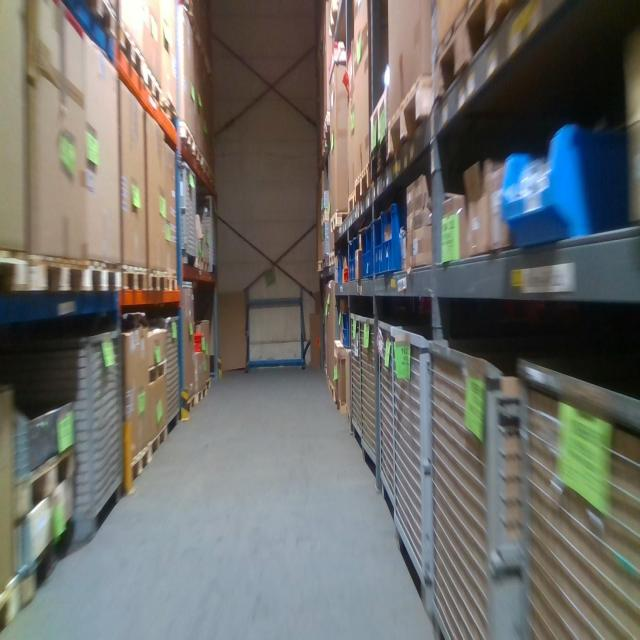pallet: (11, 439, 75, 536), (16, 520, 71, 616), (387, 70, 432, 170), (23, 258, 86, 315), (434, 48, 486, 99), (119, 22, 146, 85), (83, 2, 118, 45), (83, 266, 122, 299), (127, 443, 150, 498), (370, 131, 390, 189), (1, 567, 18, 630), (355, 160, 374, 208), (122, 264, 149, 293), (145, 65, 162, 111), (150, 423, 167, 460), (179, 119, 196, 156), (148, 359, 167, 392), (329, 210, 348, 233), (183, 392, 198, 421), (165, 272, 179, 298), (149, 273, 164, 296), (348, 188, 357, 218), (197, 385, 206, 405)
small_load_carrier: (382, 201, 409, 276), (374, 210, 383, 278), (360, 227, 369, 280), (366, 223, 374, 279), (340, 310, 350, 350), (354, 234, 362, 280), (337, 248, 347, 282), (349, 236, 355, 284)
stillage: (512, 348, 639, 640), (427, 334, 520, 638), (16, 322, 127, 550), (390, 319, 432, 620), (150, 311, 184, 439), (376, 315, 396, 521), (176, 160, 203, 265), (360, 312, 377, 472), (347, 309, 363, 450), (198, 190, 219, 275)
